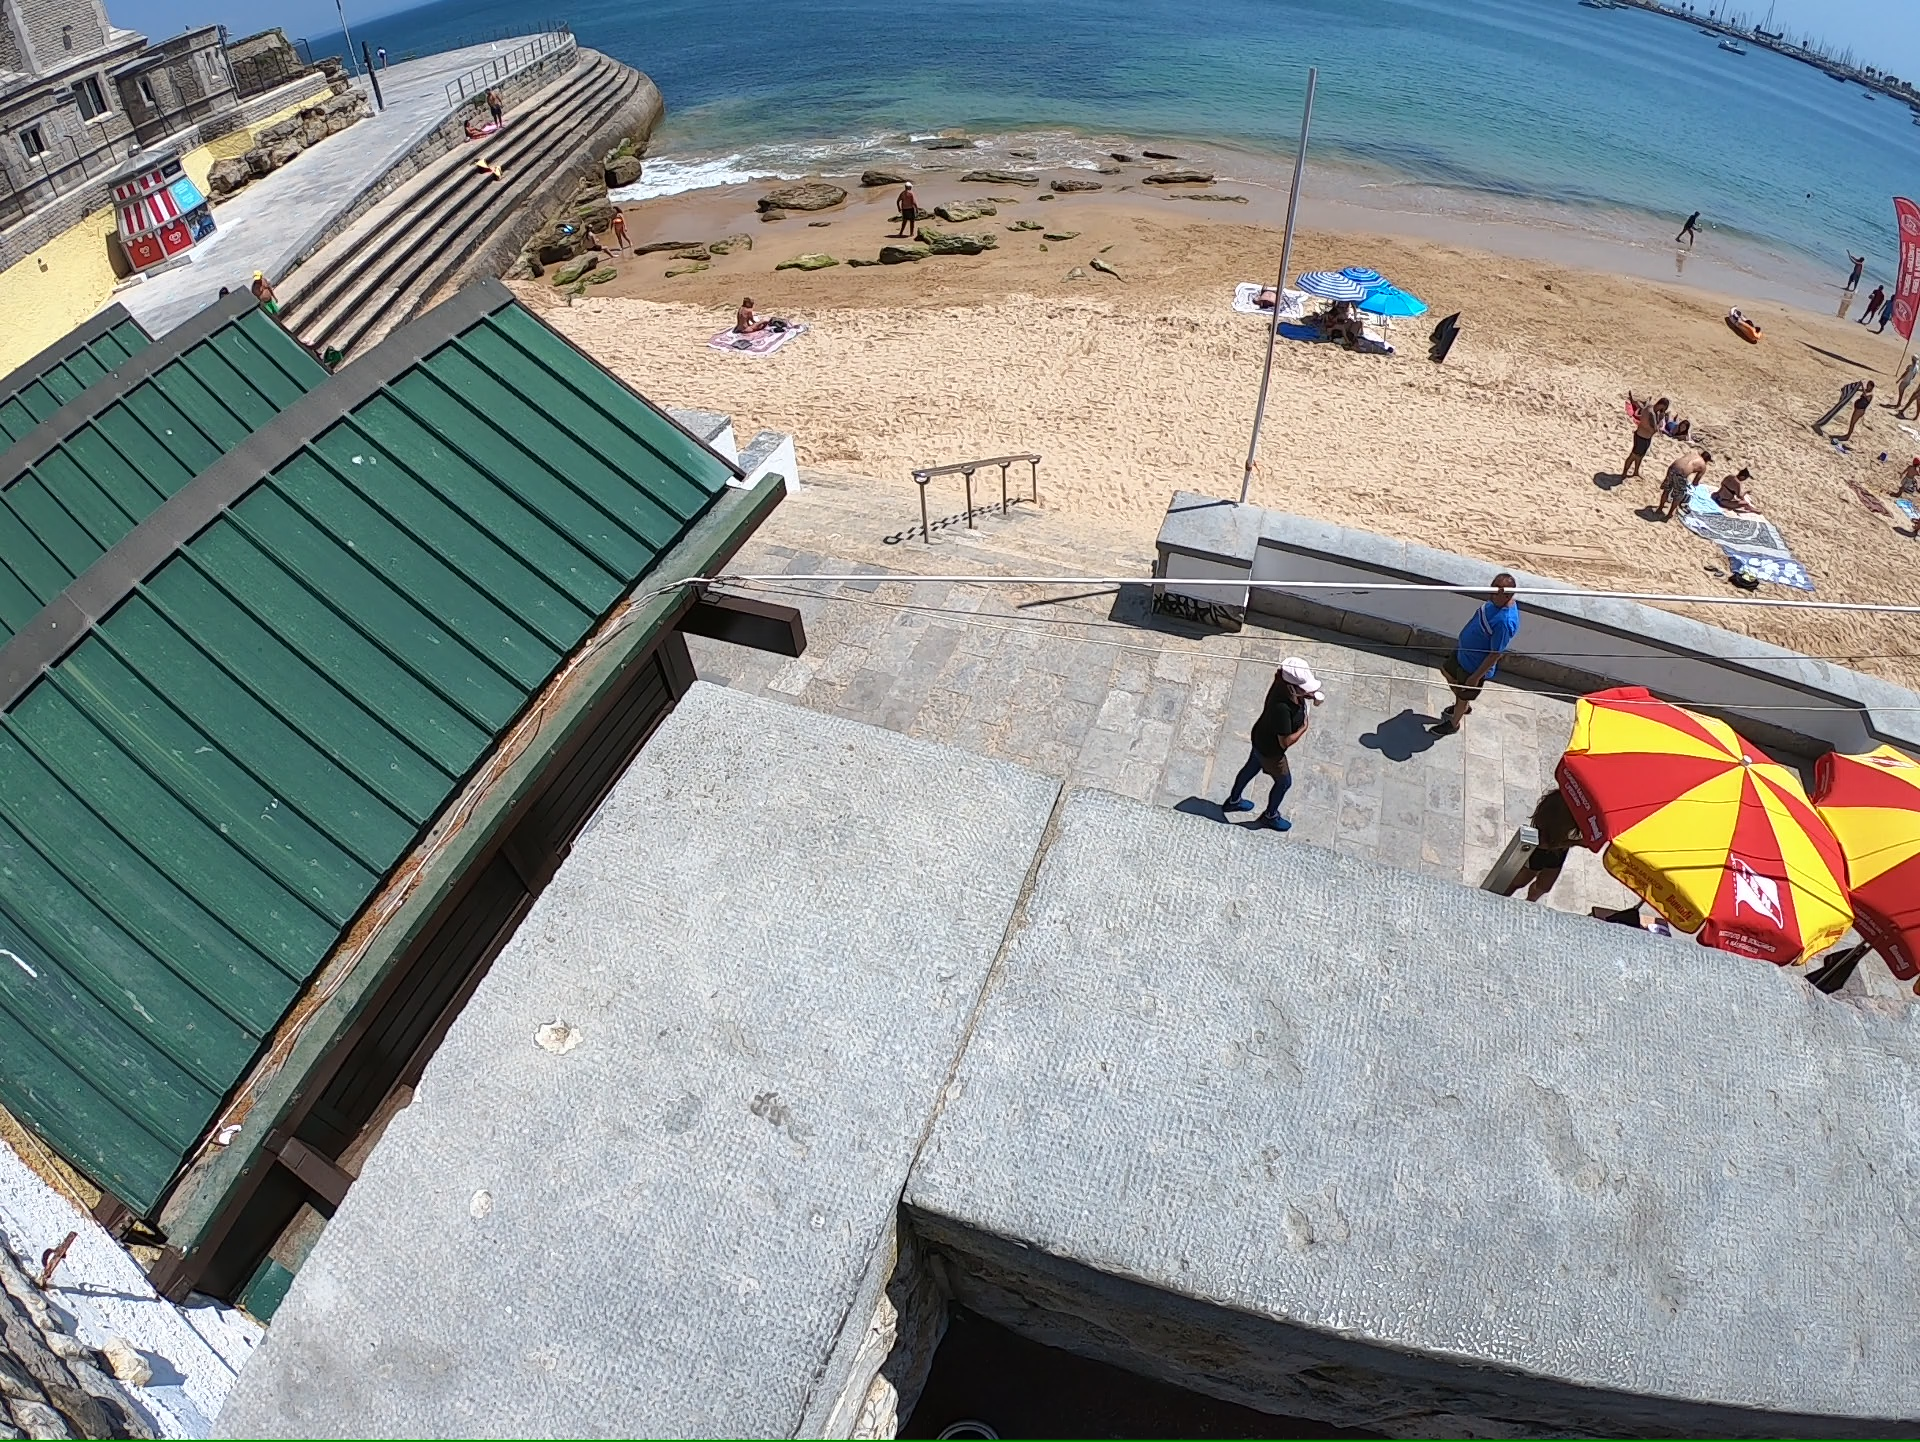person: (1224, 660, 1321, 829), (1437, 575, 1520, 721), (1656, 447, 1713, 526), (1838, 381, 1877, 440), (1636, 395, 1671, 437), (894, 180, 919, 233), (734, 292, 762, 335), (1721, 466, 1753, 501)
